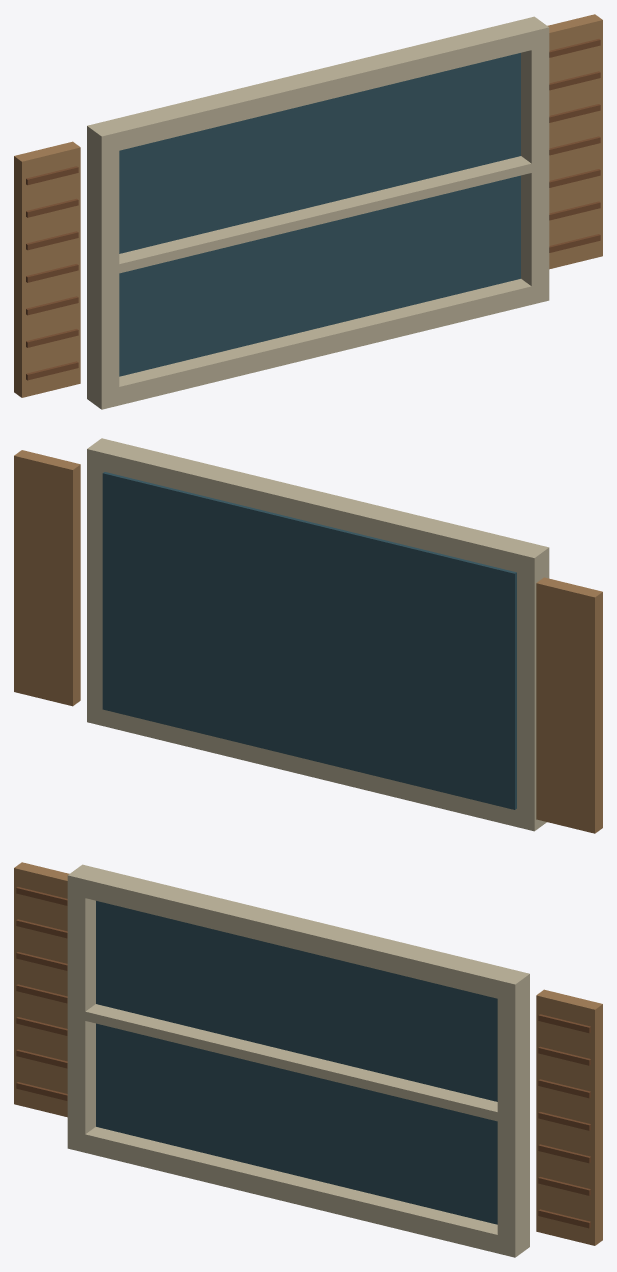
Rendered from window_03.glb.
The picture shows the model from 3 angles, top to bottom: view 1: azimuth 30°, elevation 25°; view 2: azimuth 150°, elevation 25°; view 3: azimuth 330°, elevation 25°; orthographic projection.
Parts seen in each view (by area): view 1: window_03; view 2: window_03; view 3: window_03.
Part boxes in pixels (x1,y1,x2,y2): window_03: (14,14,602,409); window_03: (14,438,602,833); window_03: (14,862,602,1257).
Size of the model in its own units: 2.96 by 1.33 by 0.185.
